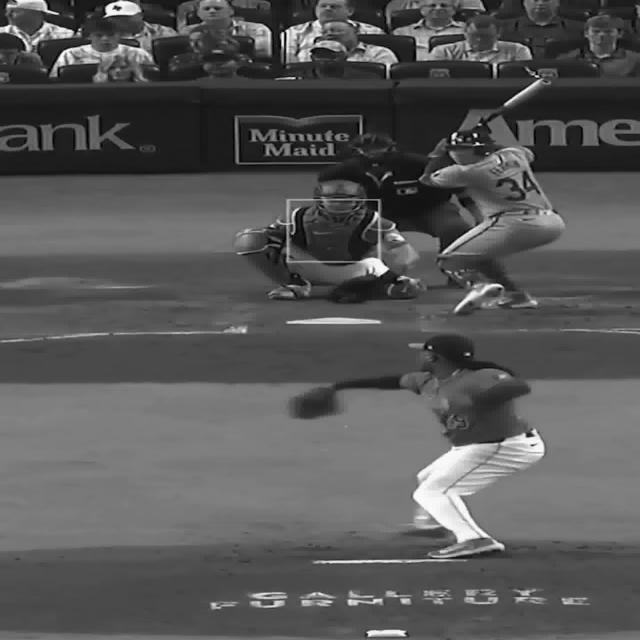baseball_glove: (289, 386, 340, 419), (329, 275, 385, 302)
bat: (478, 79, 551, 126)
shoe: (387, 512, 458, 540), (451, 282, 505, 315), (427, 538, 505, 559), (267, 281, 311, 300)
